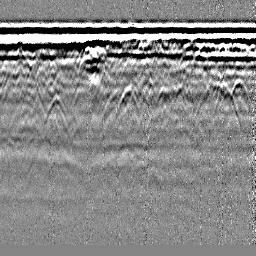cavity: (117, 81, 139, 110)
